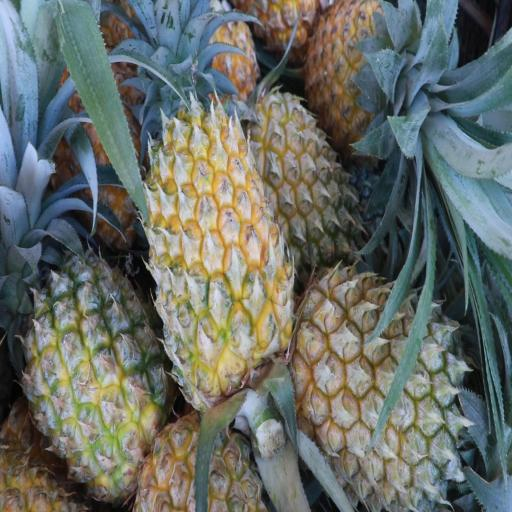Pineapple - v8 v1: (140, 107, 290, 403), (24, 256, 164, 490), (306, 0, 401, 131)
